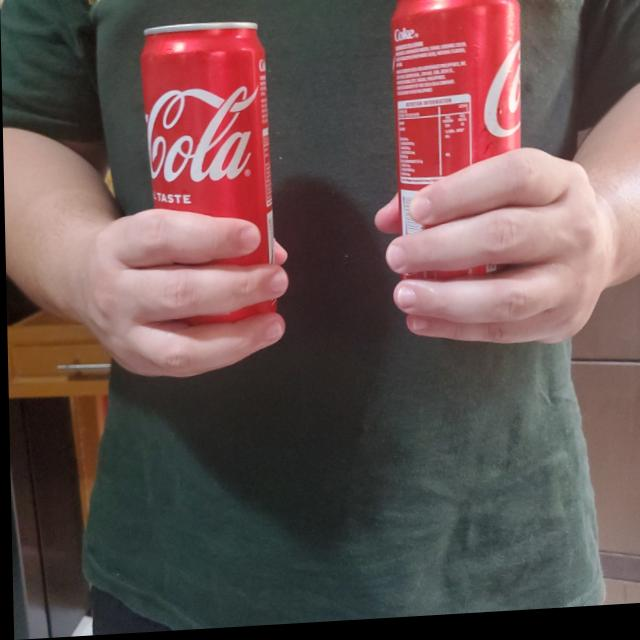coke: (387, 0, 527, 275), (145, 25, 279, 283)
